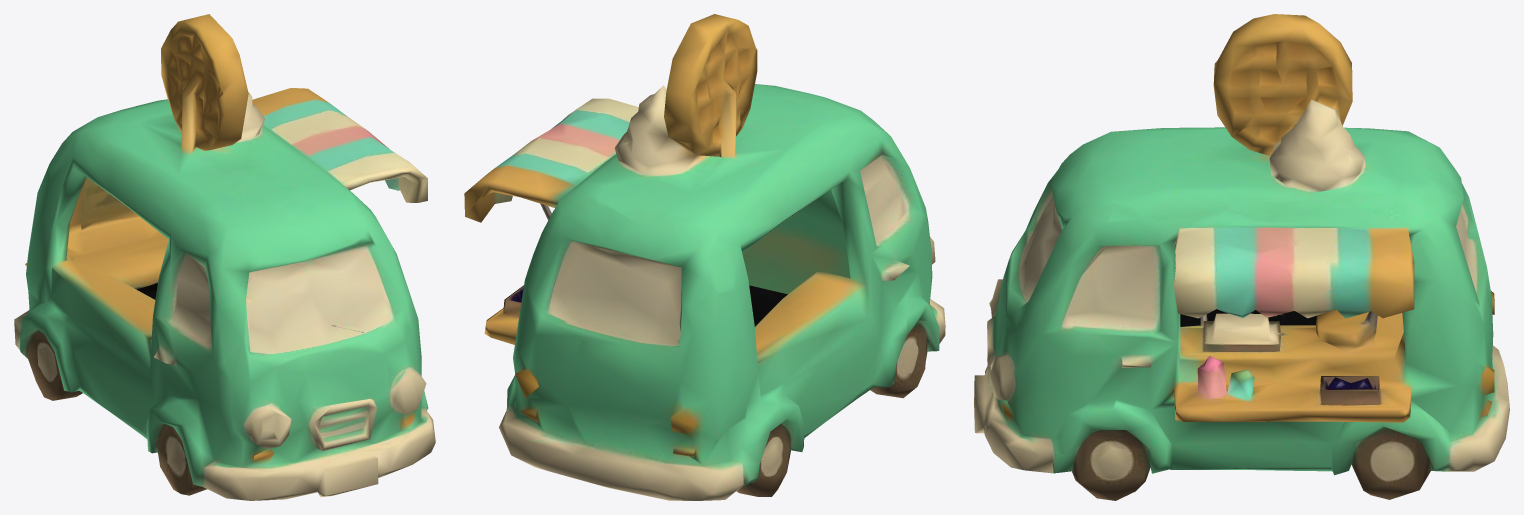
The model's file is camion-gaufres.glb.
3 views of the same model, side by side, from view 1: azimuth 30°, elevation 25°; view 2: azimuth 150°, elevation 25°; view 3: azimuth 270°, elevation 25° (orthographic). The views are drawn at different scales.
Visible parts, largest first — view 1: tripo_node_3e6d6e92-8bb8-44ed-a63c-4a0ba474e0f6; view 2: tripo_node_3e6d6e92-8bb8-44ed-a63c-4a0ba474e0f6; view 3: tripo_node_3e6d6e92-8bb8-44ed-a63c-4a0ba474e0f6.
Boxes of the visible parts, left/top/right/bottom form: tripo_node_3e6d6e92-8bb8-44ed-a63c-4a0ba474e0f6: left=14, top=14, right=435, bottom=500; tripo_node_3e6d6e92-8bb8-44ed-a63c-4a0ba474e0f6: left=464, top=14, right=945, bottom=500; tripo_node_3e6d6e92-8bb8-44ed-a63c-4a0ba474e0f6: left=974, top=14, right=1509, bottom=500.
Size of the model in its own units: 0.6836 by 0.8655 by 1.
1 material, 1 textured.
